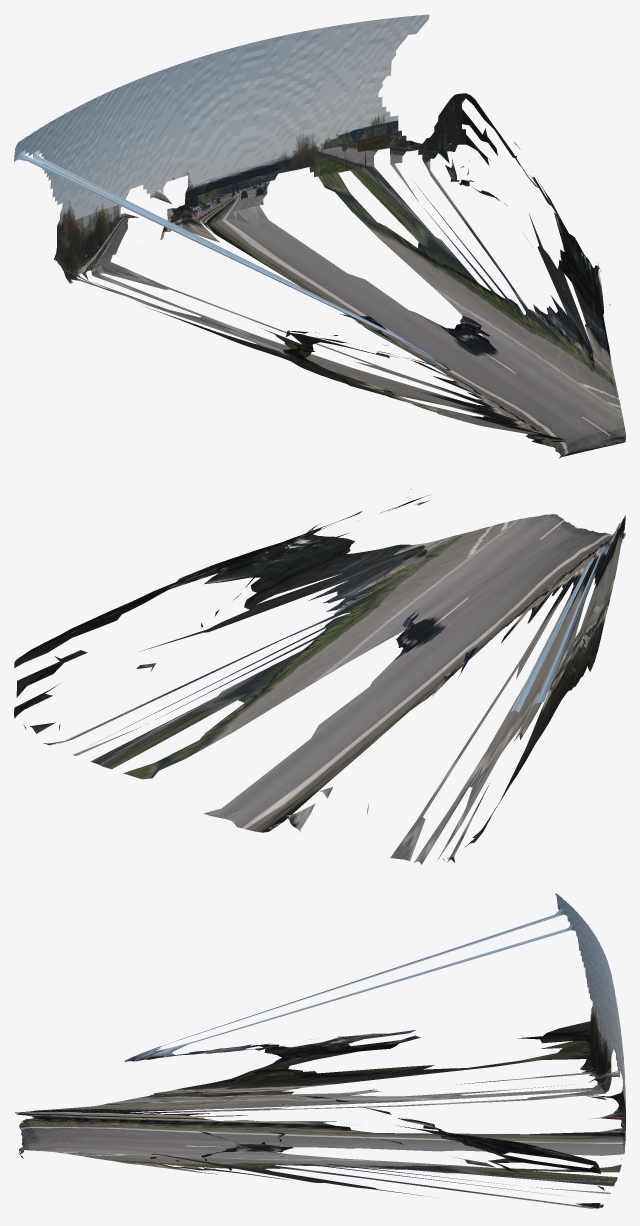
The picture shows the model from 3 angles, top to bottom: view 1: azimuth 30°, elevation 25°; view 2: azimuth 150°, elevation 25°; view 3: azimuth 270°, elevation 25°; orthographic projection. The views are drawn at different scales.
Visible parts, largest first — view 1: defaultobject; view 2: defaultobject; view 3: defaultobject.
Part boxes in pixels (x1,y1,x2,y2): defaultobject: (14,14,625,458); defaultobject: (14,489,625,864); defaultobject: (15,893,625,1208).
Size of the model in its own units: 35.24 by 13.07 by 44.72.
1 material, 1 textured.
